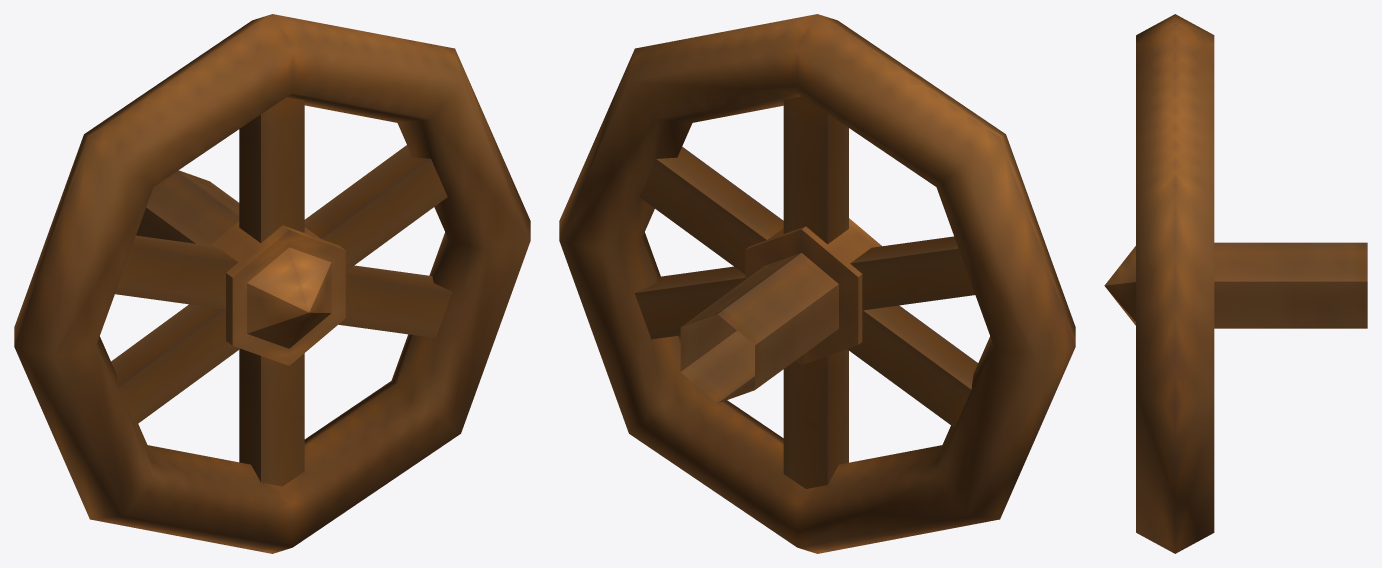
File: pipe_hand.FBX
The picture shows the model from 3 angles, left to right: view 1: azimuth 30°, elevation 25°; view 2: azimuth 150°, elevation 25°; view 3: azimuth 270°, elevation 25°; orthographic projection. The views are drawn at different scales.
Visible parts, largest first — view 1: pipe_hand; view 2: pipe_hand; view 3: pipe_hand.
Part boxes in pixels (bbox=[...]): pipe_hand: bbox=[14, 14, 530, 553]; pipe_hand: bbox=[559, 14, 1075, 553]; pipe_hand: bbox=[1104, 14, 1367, 553].
Size of the model in its own units: 12.15 by 12.15 by 5.57.
